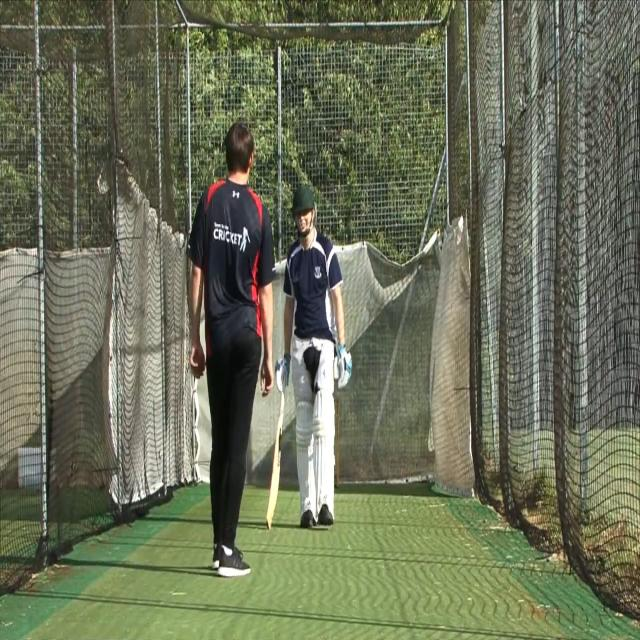batsman: (265, 182, 353, 534)
